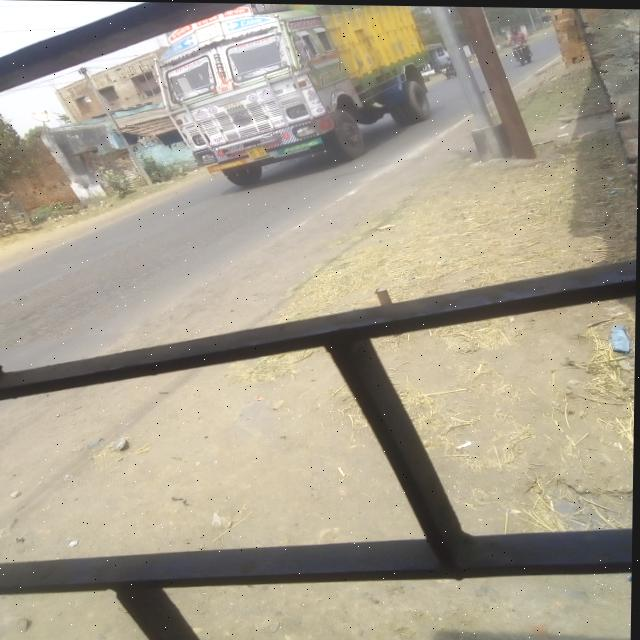plate: (247, 145, 269, 159)
